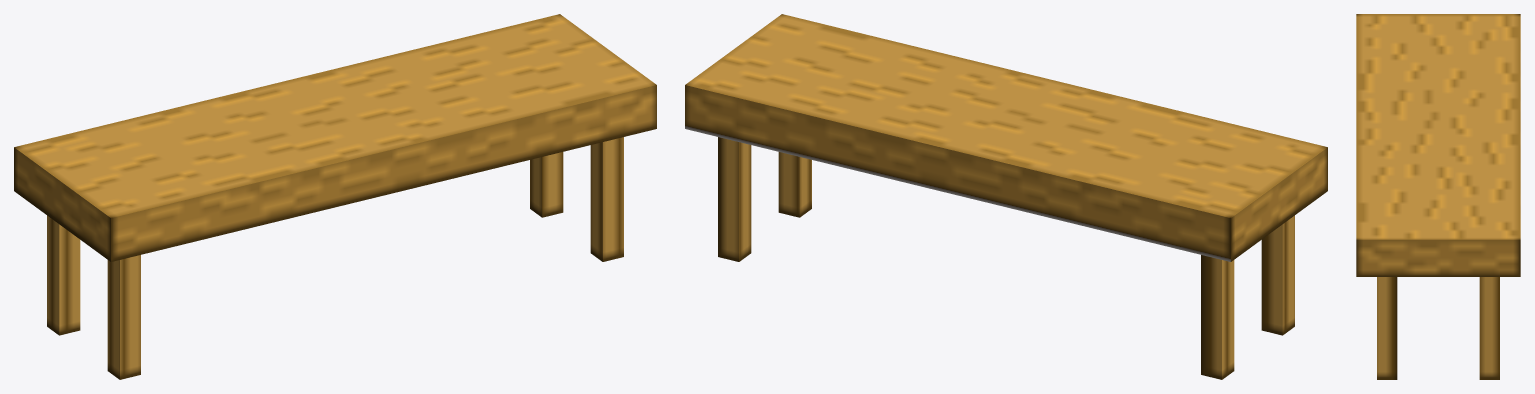
Rendered from Table_1.fbx.
3 renders of one model, left to right at view 1: azimuth 30°, elevation 25°; view 2: azimuth 150°, elevation 25°; view 3: azimuth 270°, elevation 25°, orthographic. The views are drawn at different scales.
Parts seen in each view (by area): view 1: Table_1; view 2: Table_1; view 3: Table_1.
Boxes of the visible parts, box(x1,y1,x2,y2) form: Table_1: box(14, 14, 656, 379); Table_1: box(685, 14, 1327, 379); Table_1: box(1356, 14, 1520, 379).
Size of the model in its own units: 260 by 80 by 80.
1 material, 1 textured.
